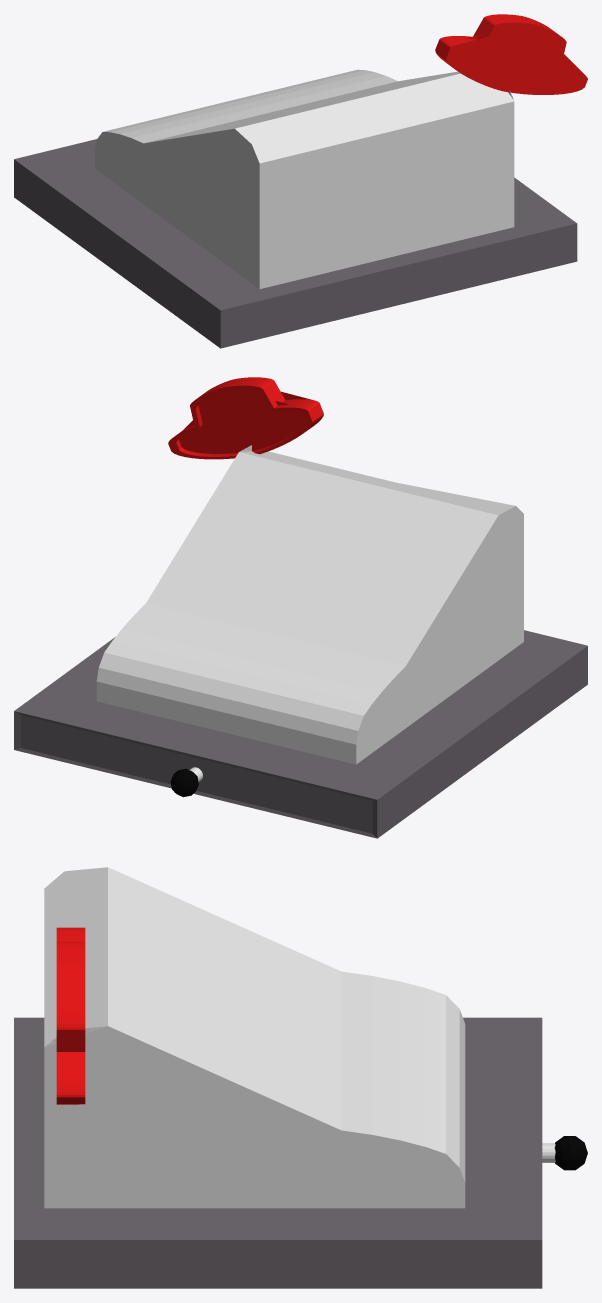
File: NewTillMachine.fbx
3 renders of one model, top to bottom at view 1: azimuth 30°, elevation 25°; view 2: azimuth 150°, elevation 25°; view 3: azimuth 270°, elevation 25°, orthographic. The views are drawn at different scales.
Visible parts, largest first — view 1: Cube.001, Cube, Cube.004; view 2: Cube.001, Cube, Cube.004, Icosphere; view 3: Cube.001, Cube, Cube.004, Icosphere.
Boxes of the visible parts, <box> form: Cube.001: <box>95,69,514,289</box>; Cube: <box>14,139,577,348</box>; Cube.004: <box>435,14,587,94</box>; Cube.001: <box>96,445,523,764</box>; Cube: <box>14,630,587,838</box>; Cube.004: <box>168,377,323,459</box>; Icosphere: <box>170,768,198,797</box>; Cube.001: <box>44,867,465,1208</box>; Cube: <box>14,1017,542,1288</box>; Cube.004: <box>56,927,85,1104</box>; Icosphere: <box>554,1136,587,1170</box>.
Size of the model in its own units: 302 by 180 by 305.
